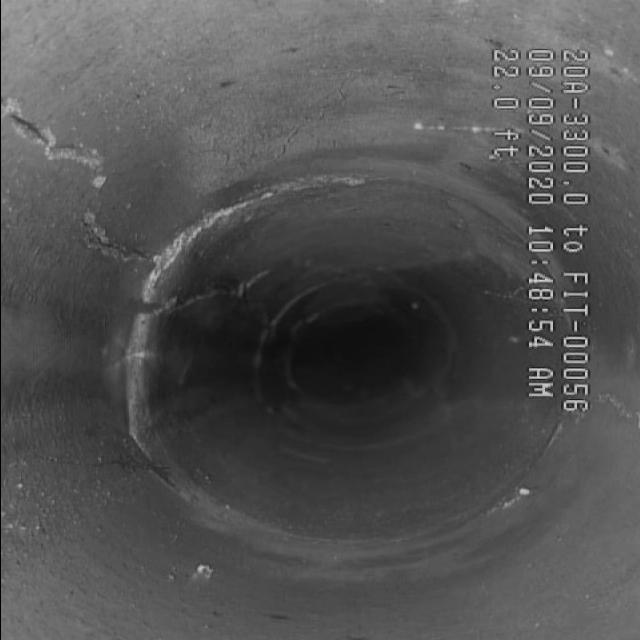Crack: (9, 104, 218, 292)
